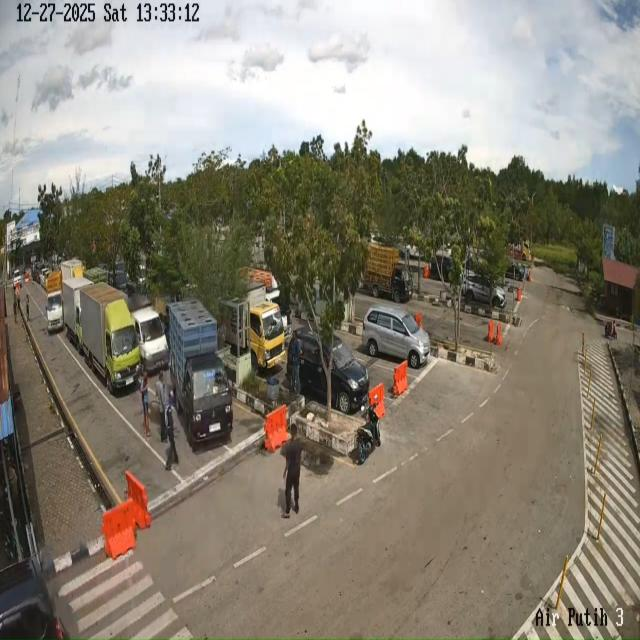Golongan IVA: (286, 327, 370, 414), (362, 304, 430, 368), (462, 272, 506, 309)
Golongan IVB: (167, 348, 233, 448), (363, 244, 413, 304), (45, 270, 63, 333)
Golongan VB: (80, 282, 140, 393), (225, 282, 286, 369), (127, 295, 169, 373)
